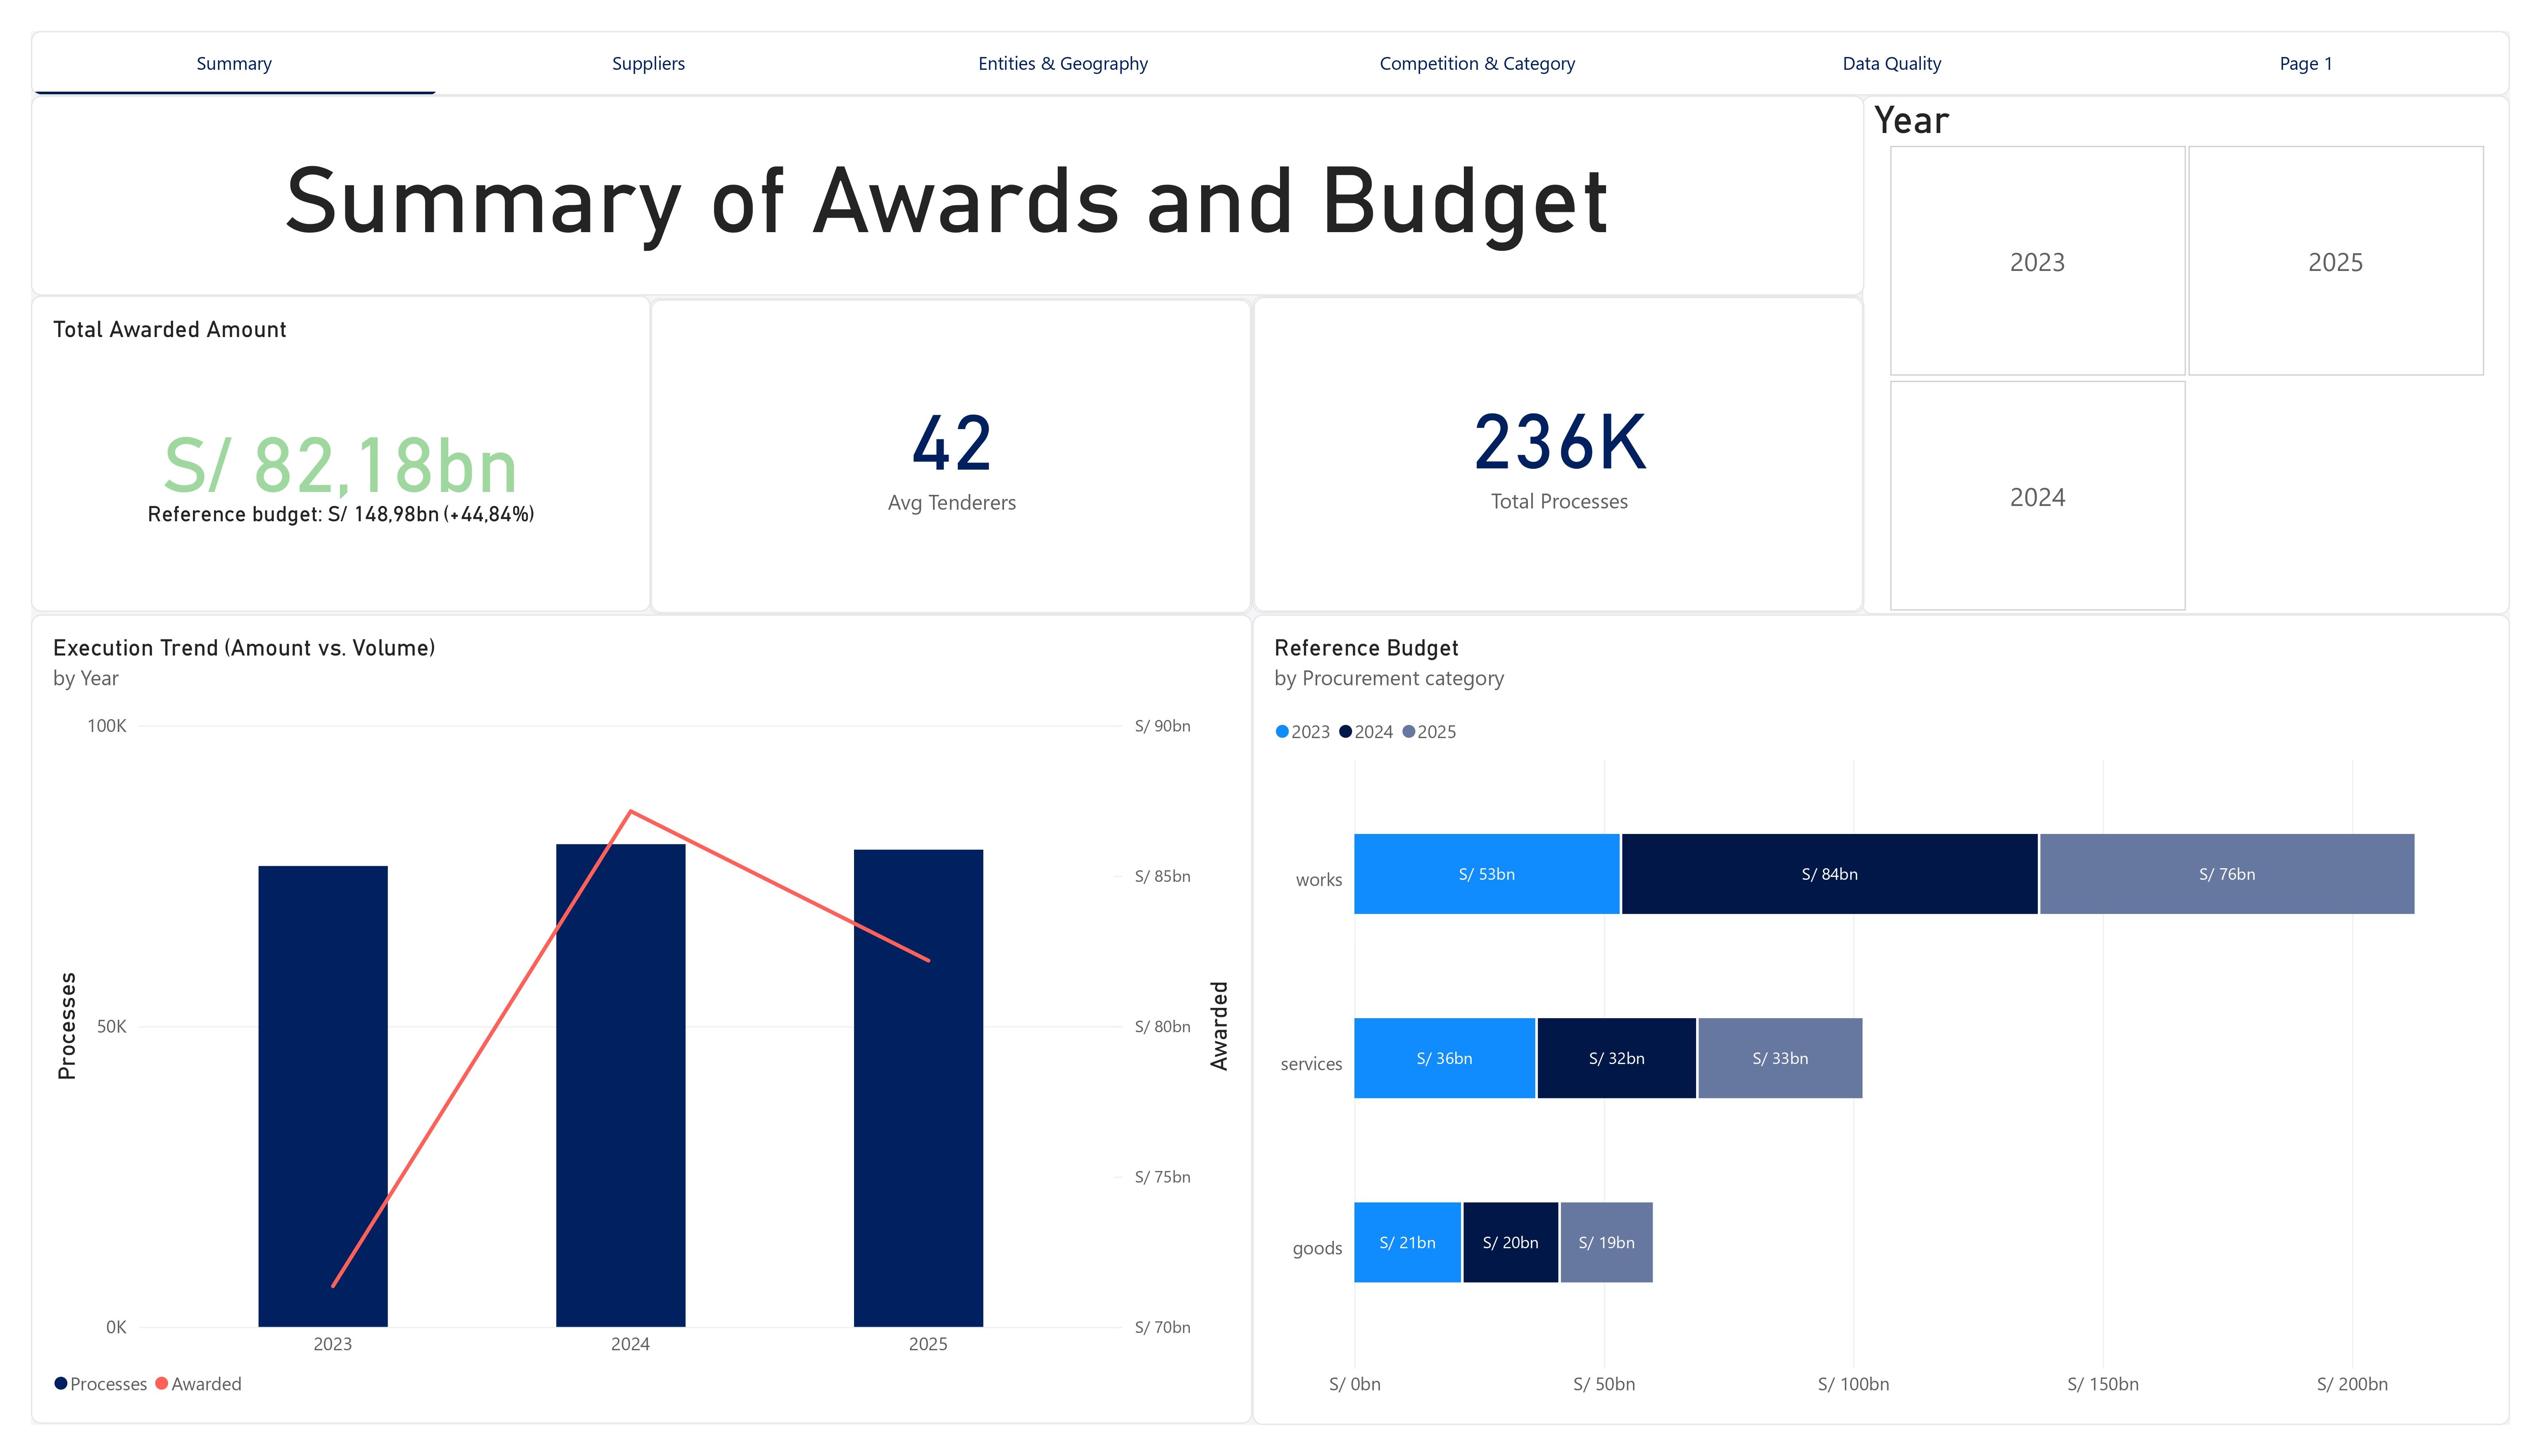

Layout of this report page (visuals, bound fields, positions):
{"tool":"powerbi","page":{"name":"Summary","canvas":[1920,1080],"ordinal":0},"visuals":[{"type":"kpi","title":"Total Awarded Amount","fields":{"Goal":["Sum(v_annual_summary.total_reference_amount)"],"Indicator":["Sum(v_annual_summary.total_awarded_amount)"],"TrendLine":["Dim_Year.Year"]},"box":[0,205,480,244.5],"z":0},{"type":"cardVisual","title":"Avg Tenderers per Process","fields":{"Data":["Sum(v_annual_summary.average_tenderers)"]},"box":[479.4,206.8,466.2,245],"z":1000},{"type":"lineClusteredColumnComboChart","title":"Execution Trend (Amount vs. Volume)","fields":{"Category":["Dim_Year.Year"],"Y":["Sum(v_annual_summary.total_processes)"],"Y2":["Sum(v_annual_summary.total_awarded_amount)"]},"box":[0,451.8,945.7,626.9],"z":2000},{"type":"barChart","title":"Reference Budget","fields":{"Category":["v_category_method.procurement_category"],"Series":["Dim_Year.Year"],"Y":["Sum(v_category_method.reference_amount)"]},"box":[945.7,451.8,974.6,628.2],"z":3000},{"type":"slicer","fields":{"Values":["Dim_Year.Year"]},"box":[1418.5,50,501.8,401.7],"z":4000},{"type":"textbox","box":[0,50,1419.8,155.4],"z":5000},{"type":"cardVisual","title":"Avg Tenderers per Process","fields":{"Data":["Sum(v_annual_summary.total_processes)"]},"box":[945.7,205.5,473.9,245.7],"z":6000},{"type":"pageNavigator","box":[0,0,1920.3,50],"z":6001}]}

Visuals, with their boxes on the page's 1920x1080 design canvas (x1, y1, x2, y2). These are canvas units, not pixel positions in the 2541x1456 screenshot, which may show the page scaled, cropped or inside an application window:
"Total Awarded Amount" kpi: {"x1": 0, "y1": 205, "x2": 480, "y2": 450}
"Avg Tenderers per Process" cardVisual: {"x1": 479, "y1": 207, "x2": 946, "y2": 452}
"Execution Trend (Amount vs. Volume)" lineClusteredColumnComboChart: {"x1": 0, "y1": 452, "x2": 946, "y2": 1079}
"Reference Budget" barChart: {"x1": 946, "y1": 452, "x2": 1920, "y2": 1080}
slicer - Dim_Year.Year: {"x1": 1418, "y1": 50, "x2": 1920, "y2": 452}
textbox: {"x1": 0, "y1": 50, "x2": 1420, "y2": 205}
"Avg Tenderers per Process" cardVisual: {"x1": 946, "y1": 206, "x2": 1420, "y2": 451}
pageNavigator: {"x1": 0, "y1": 0, "x2": 1920, "y2": 50}
